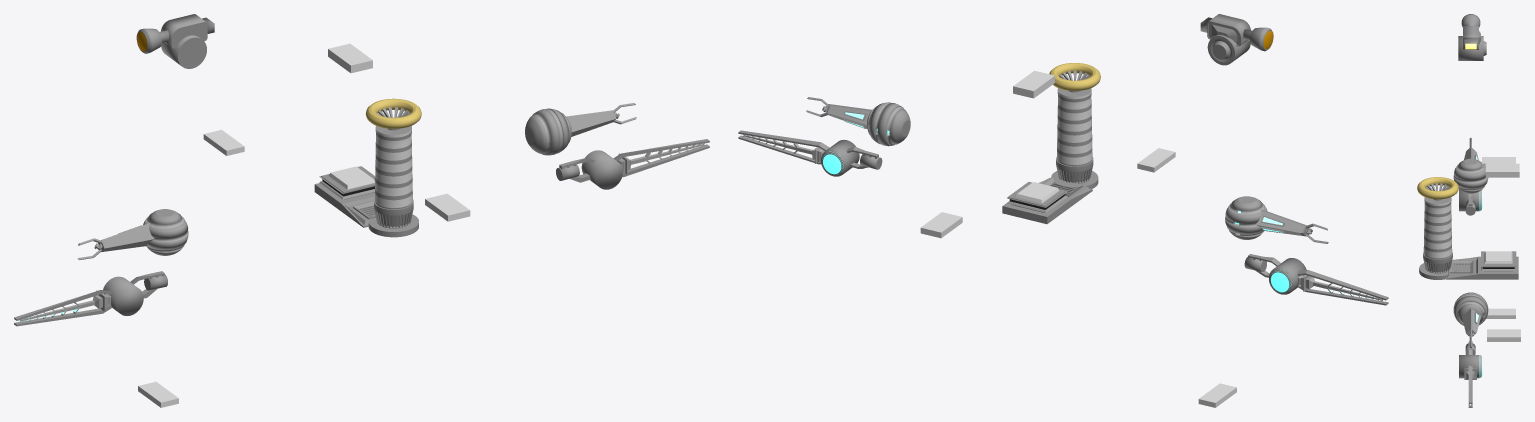
File: vehicle.fbx
3 renders of one model, left to right at view 1: azimuth 30°, elevation 25°; view 2: azimuth 150°, elevation 25°; view 3: azimuth 270°, elevation 25°, orthographic. The views are drawn at different scales.
Visible parts, largest first — view 1: battery, gun_2_front, gun_2_back, spotlight, gun_1_front, gun_1_back, dynamo, button_fire_2.001, button_fire_1.001, steering.001, steering.002; view 2: battery, gun_2_front, gun_2_back, dynamo, spotlight, gun_1_back, gun_1_front, button_fire_2.001, button_fire_1.001; view 3: battery, dynamo, gun_1_back, gun_1_front, spotlight, gun_2_back, button_fire_2.001, gun_2_front, button_fire_1.001, steering.002, steering.001.
Boxes of the visible parts, <box> form: battery: <box>365,98,421,237</box>; gun_2_front: <box>14,271,167,326</box>; gun_2_back: <box>556,139,709,189</box>; spotlight: <box>136,14,214,68</box>; gun_1_front: <box>77,209,188,259</box>; gun_1_back: <box>525,103,636,155</box>; dynamo: <box>314,166,375,227</box>; button_fire_2.001: <box>328,43,372,73</box>; button_fire_1.001: <box>425,193,470,221</box>; steering.001: <box>203,130,244,155</box>; steering.002: <box>138,381,178,407</box>; battery: <box>1049,63,1100,189</box>; gun_2_front: <box>1244,254,1388,305</box>; gun_2_back: <box>738,130,882,176</box>; dynamo: <box>1002,178,1092,224</box>; spotlight: <box>1200,14,1273,65</box>; gun_1_back: <box>806,97,910,146</box>; gun_1_front: <box>1225,196,1328,243</box>; button_fire_2.001: <box>1013,70,1055,98</box>; button_fire_1.001: <box>920,212,962,238</box>; battery: <box>1417,177,1458,279</box>; dynamo: <box>1446,251,1518,279</box>; gun_1_back: <box>1453,292,1488,347</box>; gun_1_front: <box>1453,138,1488,193</box>; spotlight: <box>1458,14,1486,60</box>; gun_2_back: <box>1459,341,1482,407</box>; button_fire_2.001: <box>1485,163,1519,177</box>; gun_2_front: <box>1459,189,1482,215</box>; button_fire_1.001: <box>1487,329,1520,341</box>; steering.002: <box>1486,308,1515,318</box>; steering.001: <box>1482,157,1515,167</box>.
Size of what is drawn, in the model's own units: 3.07 by 1.65 by 0.5352.
